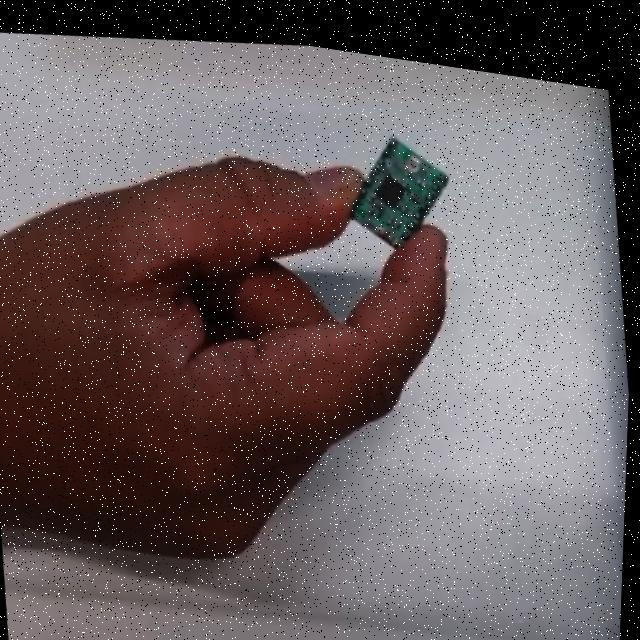Chip: (337, 124, 452, 260)
